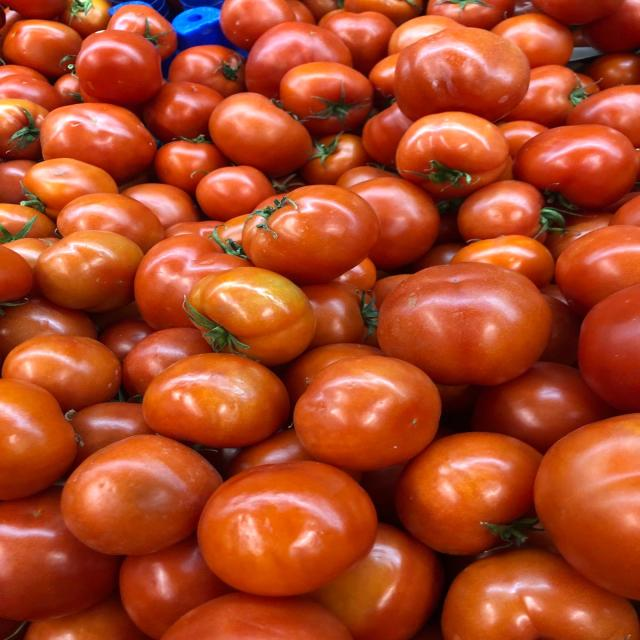tomato: (194, 455, 386, 602), (372, 251, 561, 384), (391, 420, 553, 559), (276, 348, 447, 463), (172, 262, 332, 367), (232, 179, 387, 280), (135, 351, 289, 448), (199, 88, 328, 173), (28, 226, 149, 316), (391, 106, 512, 195), (273, 59, 383, 127)
